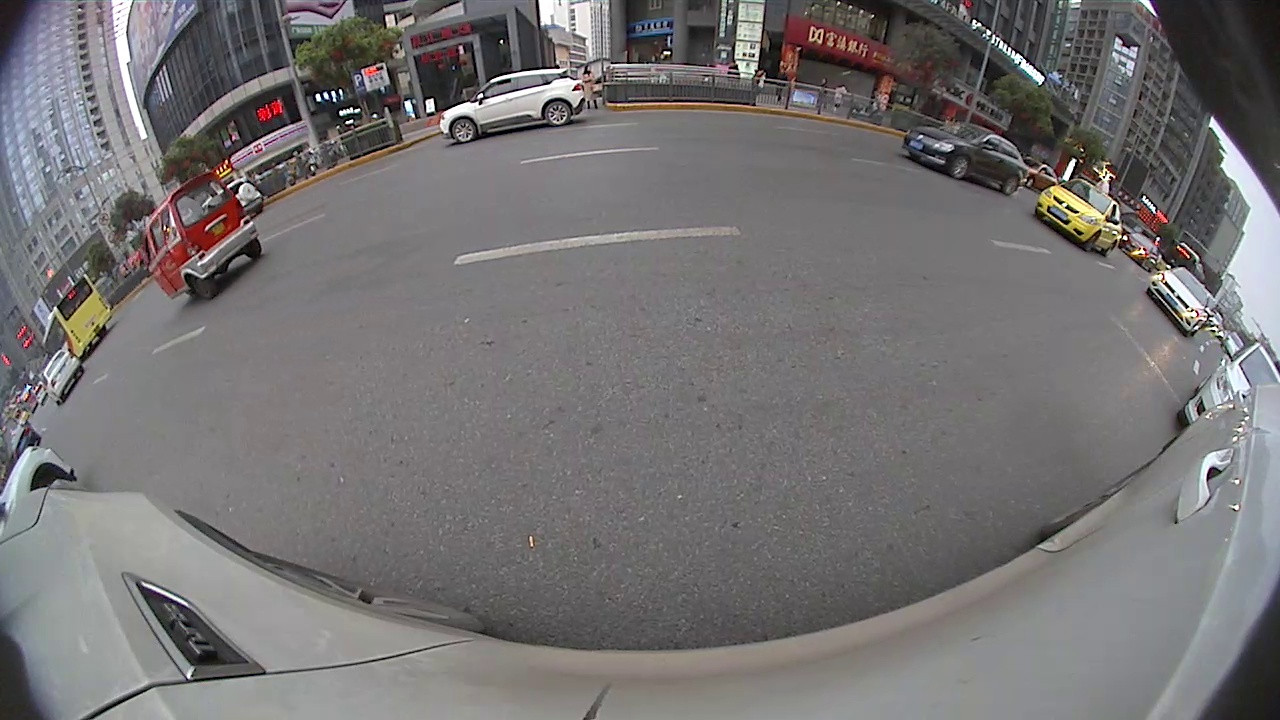bus: (40, 269, 115, 357)
car: (435, 66, 588, 144), (1179, 337, 1279, 445), (900, 120, 1029, 198), (1, 445, 88, 533), (1033, 177, 1126, 258), (1145, 264, 1215, 336), (39, 347, 88, 407)
front: (449, 117, 477, 148), (948, 154, 971, 183)
rear: (542, 99, 574, 129), (188, 273, 217, 300), (998, 174, 1020, 198)
rider: (137, 168, 264, 301)
